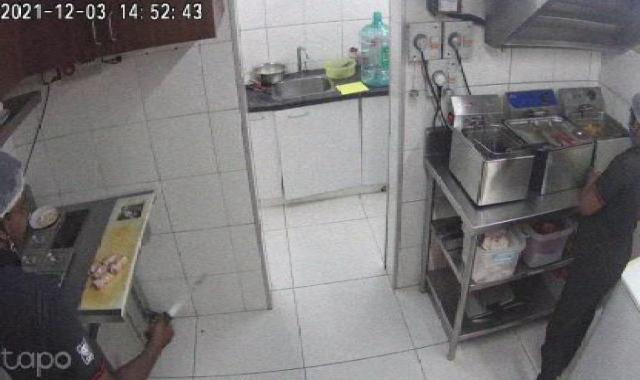hairnet: (0, 144, 36, 227)
